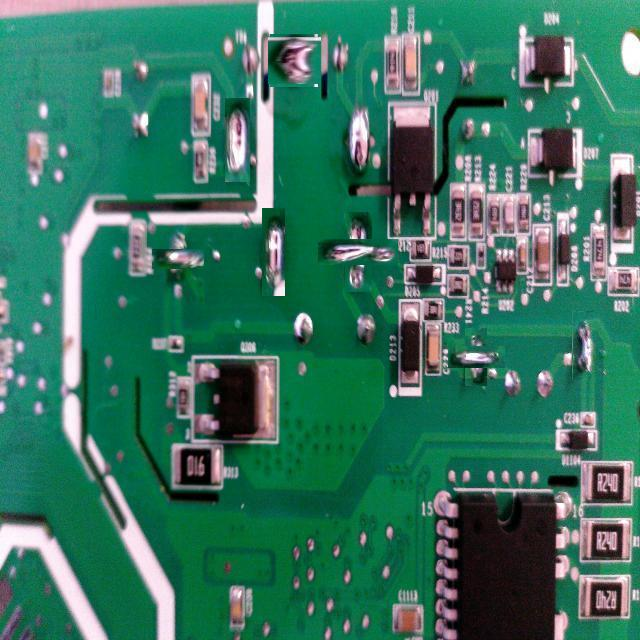Short_circuit: (332, 225, 385, 279), (269, 35, 320, 86), (225, 98, 250, 182), (262, 208, 285, 296), (349, 100, 371, 184), (456, 337, 496, 377), (572, 311, 593, 380), (160, 241, 196, 278)
